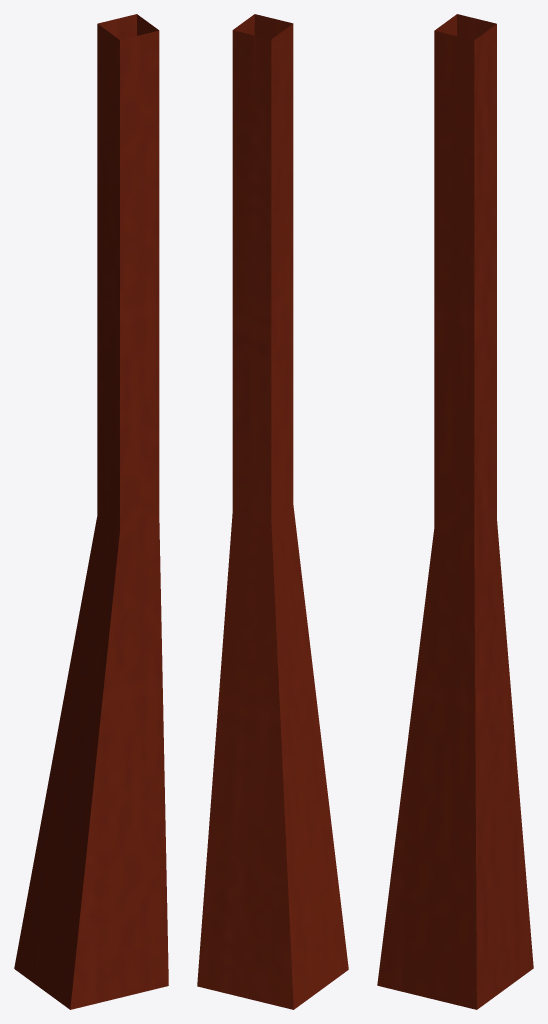
File: castle_break6.fbx
3 views of the same model, side by side, from view 1: azimuth 30°, elevation 25°; view 2: azimuth 150°, elevation 25°; view 3: azimuth 330°, elevation 25° (orthographic). The views are drawn at different scales.
Parts seen in each view (by area): view 1: polySurface47; view 2: polySurface47; view 3: polySurface47.
Boxes of the visible parts, box(x1,y1,x2,y2) form: polySurface47: box(14, 14, 168, 1009); polySurface47: box(197, 14, 348, 1009); polySurface47: box(377, 14, 533, 1009).
Size of the model in its own units: 0.1145 by 1.06 by 0.113.
